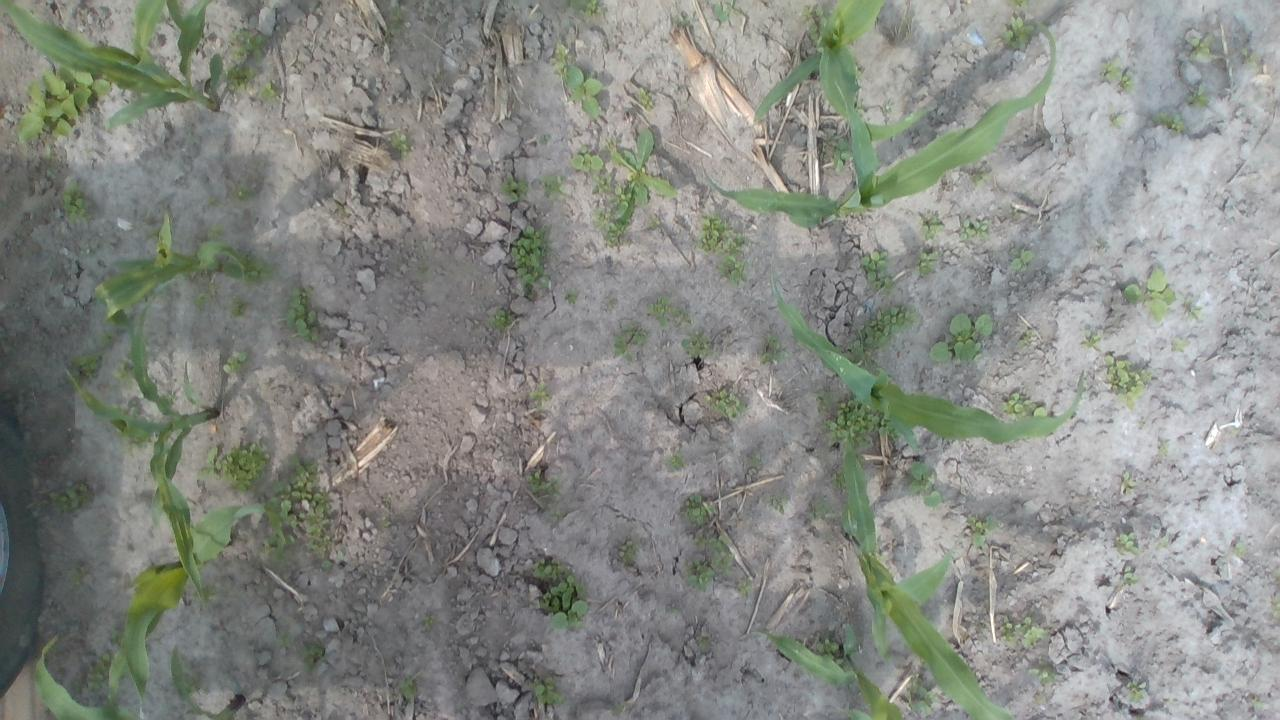Maize: (706, 21, 1058, 228), (768, 274, 1084, 448), (831, 435, 1016, 720), (64, 309, 216, 598), (110, 498, 282, 698), (0, 0, 221, 131), (33, 632, 246, 720), (92, 210, 249, 327), (757, 0, 884, 124), (756, 625, 909, 720)
Weeds: (18, 64, 110, 142), (605, 125, 679, 220), (262, 451, 331, 552), (840, 304, 919, 374), (815, 387, 900, 452), (532, 557, 590, 630), (928, 313, 992, 368), (512, 223, 551, 298), (216, 439, 272, 491), (1104, 352, 1154, 410), (1123, 268, 1177, 320), (558, 62, 606, 116), (222, 246, 272, 288), (284, 284, 320, 340), (697, 213, 745, 254), (907, 460, 945, 510), (694, 532, 735, 578), (860, 248, 896, 296), (612, 320, 650, 360), (588, 206, 626, 246), (998, 390, 1048, 420), (800, 4, 830, 52), (648, 294, 689, 329), (705, 386, 747, 420), (814, 630, 848, 671), (590, 170, 631, 204), (231, 25, 269, 61), (50, 478, 88, 514), (1100, 55, 1136, 92), (62, 181, 92, 225), (524, 676, 566, 706), (85, 650, 113, 694), (682, 492, 718, 526), (904, 678, 934, 718), (1016, 614, 1050, 649), (1000, 16, 1034, 51), (526, 468, 564, 499), (968, 516, 1002, 548), (224, 62, 258, 94), (718, 253, 749, 288), (760, 332, 790, 368), (110, 394, 148, 422), (678, 329, 712, 360), (68, 350, 98, 385), (686, 559, 716, 592), (570, 144, 605, 172), (499, 172, 530, 201), (112, 354, 136, 391), (1151, 110, 1186, 134), (118, 428, 152, 452), (222, 349, 250, 377), (302, 644, 327, 674), (832, 134, 854, 168), (958, 218, 990, 241), (1186, 33, 1212, 60), (196, 446, 216, 481), (918, 214, 946, 238), (542, 171, 566, 199), (1010, 246, 1035, 272), (1115, 530, 1140, 556), (486, 309, 514, 330), (1124, 678, 1148, 702), (1186, 84, 1210, 108), (567, 0, 603, 16), (916, 250, 938, 276), (232, 180, 258, 202), (68, 557, 85, 590), (1030, 664, 1058, 684), (1079, 328, 1104, 350), (814, 496, 836, 519), (1016, 326, 1039, 348), (664, 449, 686, 472), (1119, 471, 1139, 496), (529, 384, 551, 406), (619, 539, 640, 562), (996, 616, 1015, 641), (1184, 297, 1202, 322), (710, 0, 730, 22), (388, 133, 410, 153), (398, 676, 418, 698), (92, 331, 114, 349), (389, 4, 402, 34), (1118, 565, 1138, 584), (638, 88, 655, 110), (258, 80, 278, 98), (1240, 45, 1256, 67), (771, 494, 788, 514), (554, 43, 568, 67), (1170, 336, 1190, 352), (830, 472, 848, 489), (974, 172, 992, 188), (208, 224, 226, 240), (193, 291, 210, 307), (1110, 112, 1124, 130), (277, 636, 295, 650), (1157, 439, 1170, 458), (229, 302, 242, 320), (416, 264, 432, 278), (566, 287, 579, 304), (648, 216, 663, 230), (1004, 0, 1028, 8), (1232, 542, 1245, 556), (736, 582, 751, 594), (1158, 535, 1170, 549), (70, 679, 82, 693), (1252, 698, 1266, 710), (422, 612, 434, 626), (150, 226, 161, 241), (696, 637, 709, 649), (164, 391, 178, 402), (322, 558, 334, 570), (881, 102, 893, 114), (382, 518, 390, 529), (336, 551, 344, 561), (550, 510, 561, 516)
